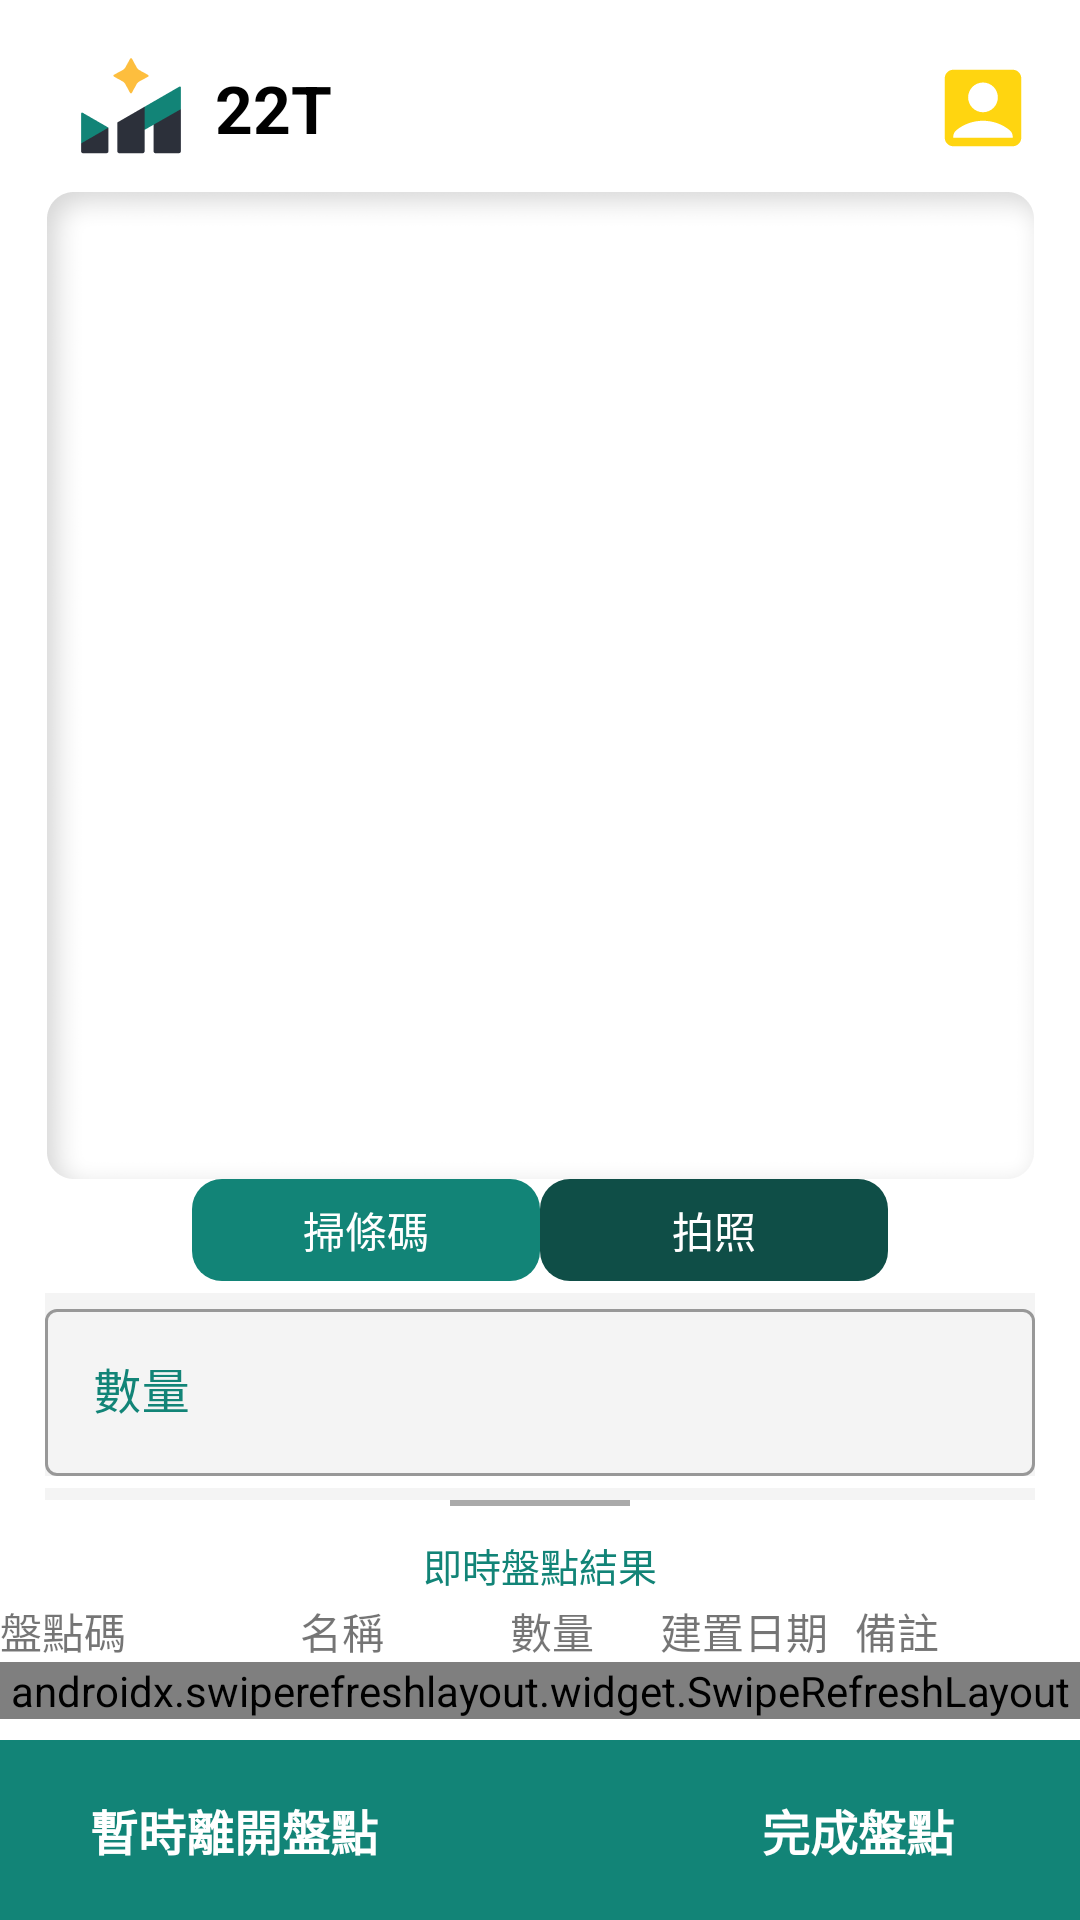

Named icons in this screenshot (1080 × 1920) and their centers, (x=x, y=y):
account box: (x=983, y=108)
